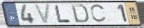1: (117, 4, 129, 23)
4: (20, 4, 36, 25)
C: (90, 3, 108, 24)
D: (70, 4, 90, 24)
L: (54, 5, 72, 24)
V: (33, 4, 52, 25)
